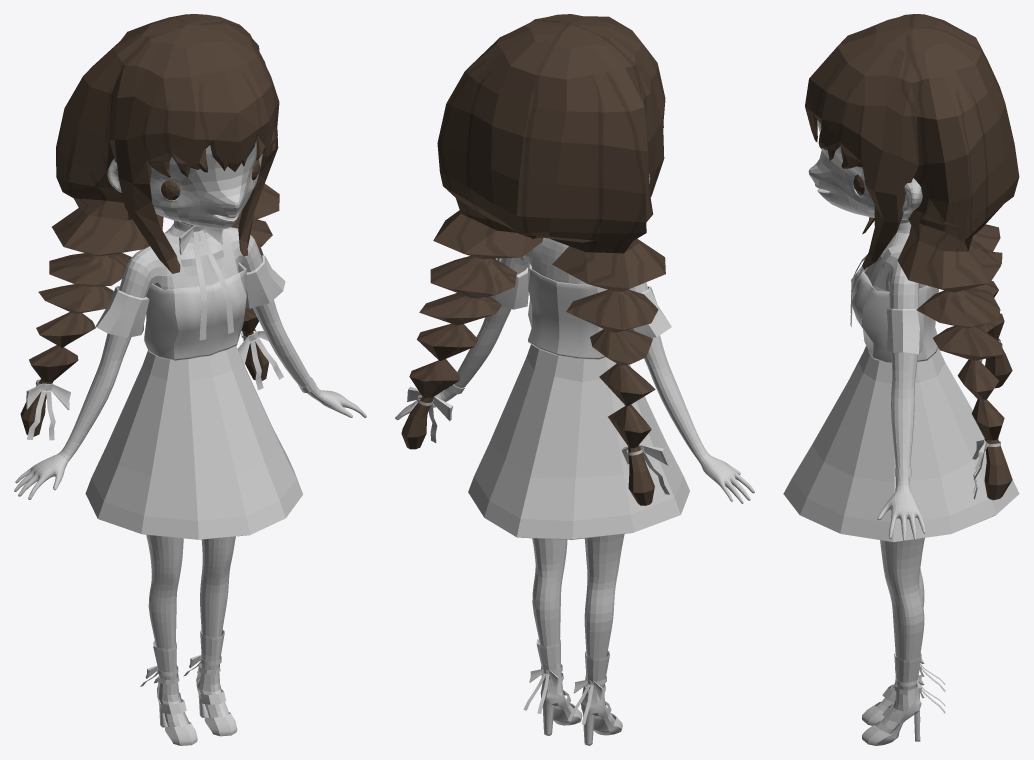
The model's file is doll.fbx.
3 renders of one model, left to right at view 1: azimuth 30°, elevation 25°; view 2: azimuth 150°, elevation 25°; view 3: azimuth 270°, elevation 25°, orthographic.
Visible parts, largest first — view 1: polySurface65; view 2: polySurface65; view 3: polySurface65.
Boxes of the visible parts, box(x1,y1,x2,y2) form: polySurface65: box(14, 14, 366, 745); polySurface65: box(395, 14, 754, 745); polySurface65: box(783, 14, 1019, 745).
Size of the model in its own units: 4.37 by 8.48 by 2.58.
